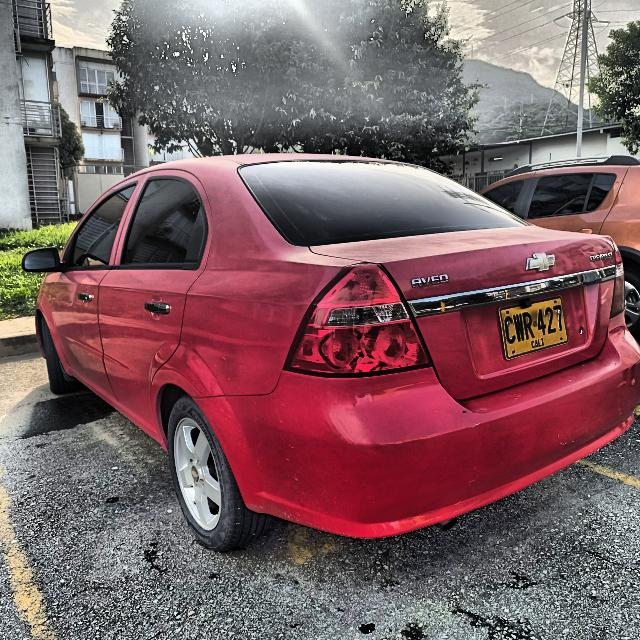plate: (499, 297, 568, 359)
